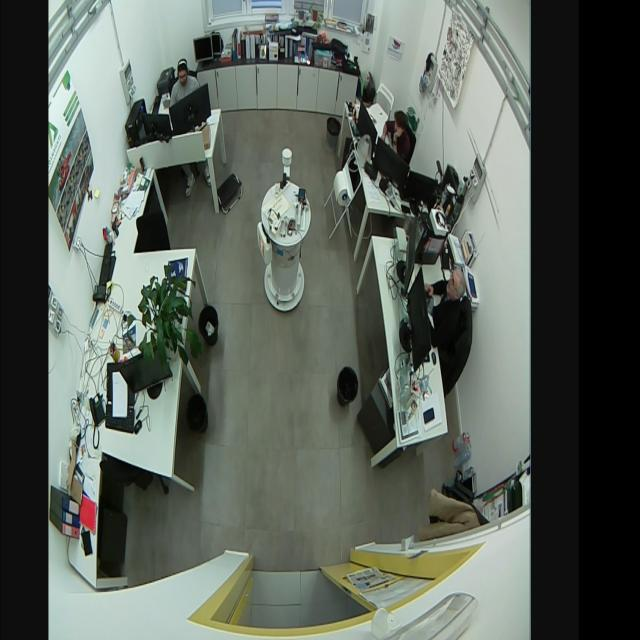Persona: (424, 264, 466, 362), (379, 108, 414, 161), (167, 54, 200, 110)
